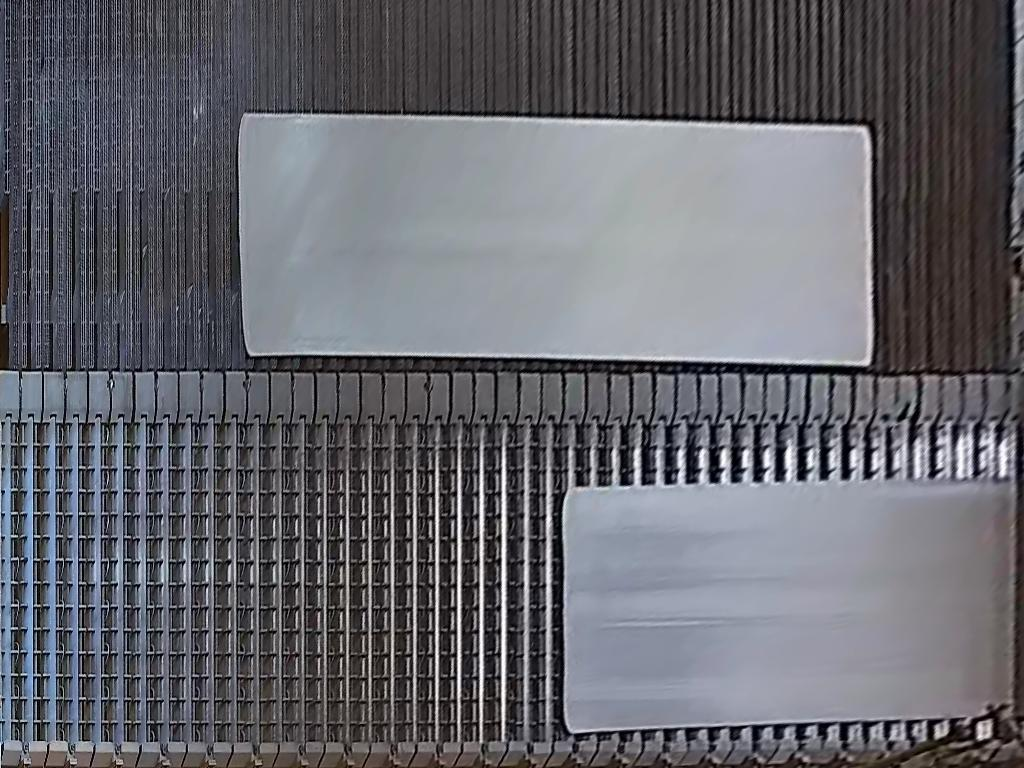steel: (235, 114, 876, 369), (563, 479, 1022, 734)
